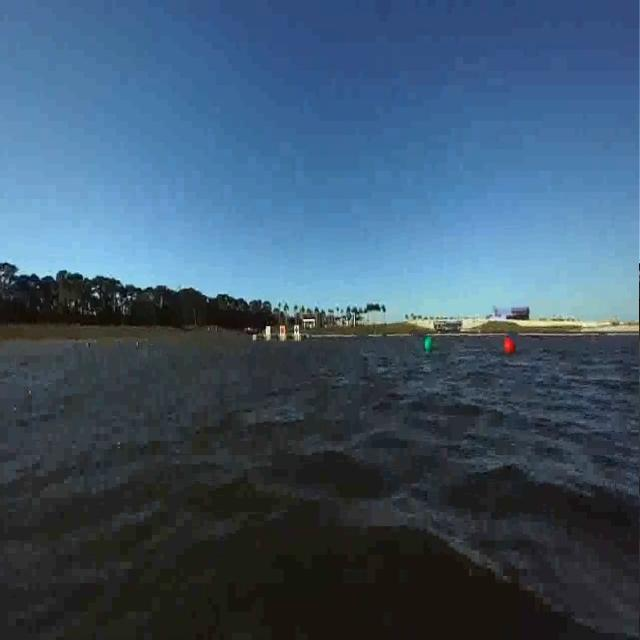green-buoy: (424, 336, 434, 354)
red-buoy: (503, 337, 515, 356)
